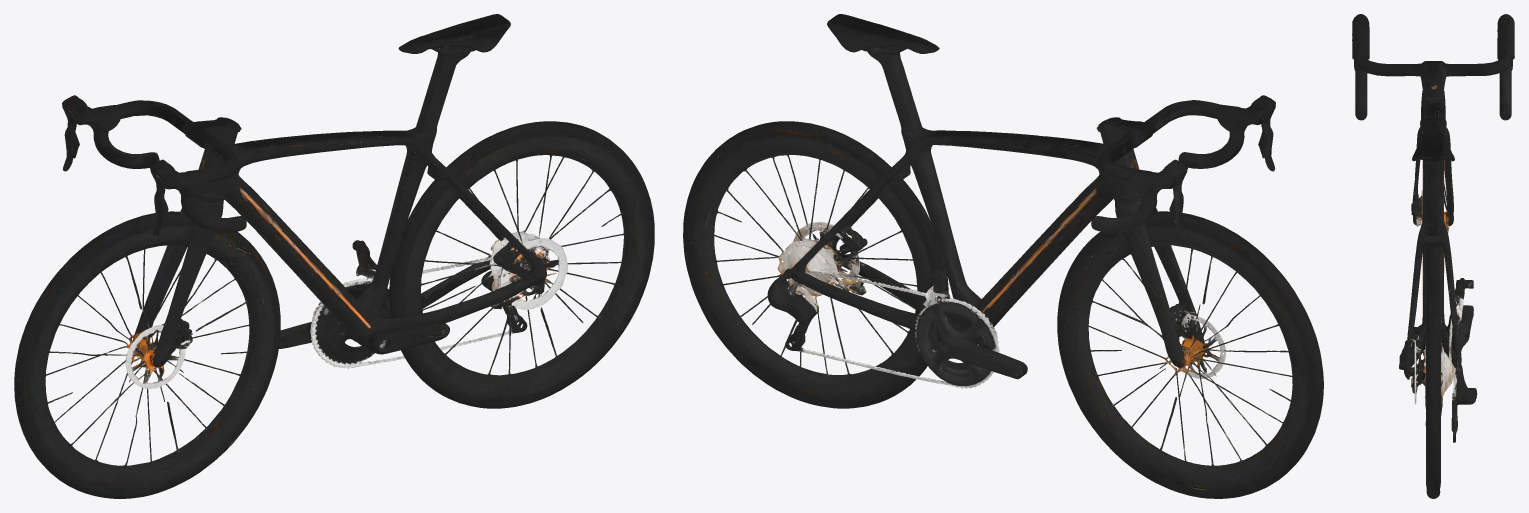
Rendered from bike.glb.
The picture shows the model from 3 angles, left to right: view 1: azimuth 30°, elevation 25°; view 2: azimuth 150°, elevation 25°; view 3: azimuth 270°, elevation 25°; orthographic projection. The views are drawn at different scales.
Parts seen in each view (by area): view 1: Mesh_0; view 2: Mesh_0; view 3: Mesh_0.
Part boxes in pixels (x1,y1,x2,y2): Mesh_0: (14, 14, 654, 498); Mesh_0: (683, 14, 1323, 498); Mesh_0: (1352, 14, 1514, 498).
Size of the model in its own units: 1.9 by 1.11 by 0.5071.
Materials: 1 (1 with a texture image).
